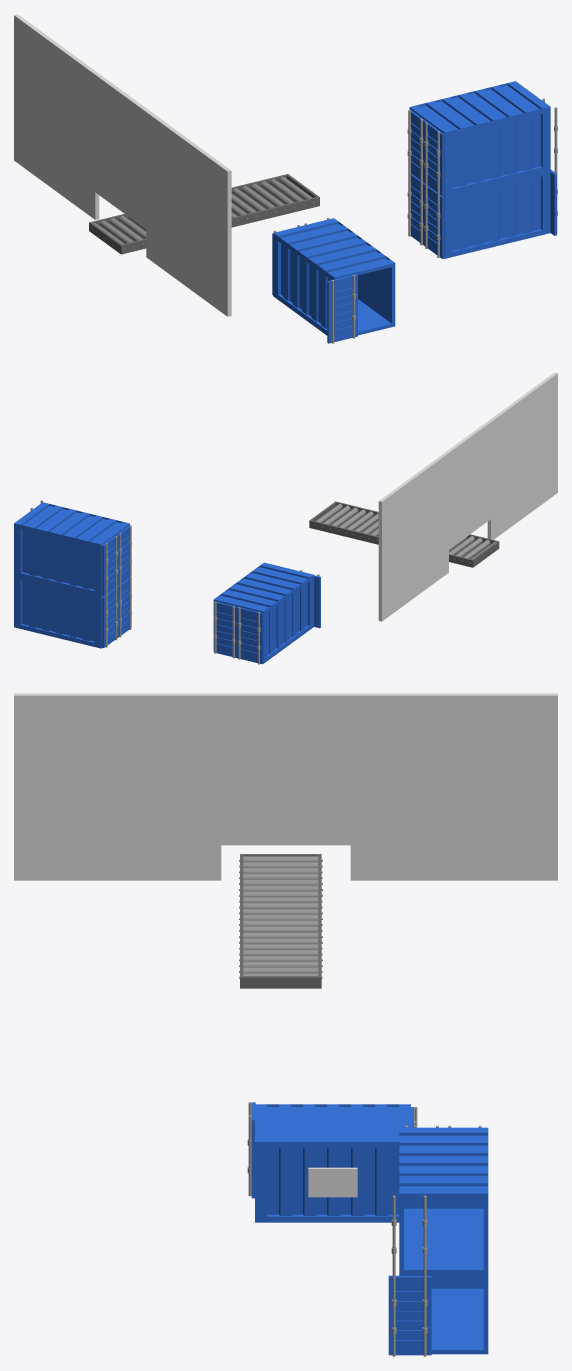
The model's file is level_1_scenery_fix.fbx.
3 views of the same model, one above another, from view 1: azimuth 30°, elevation 25°; view 2: azimuth 150°, elevation 25°; view 3: azimuth 270°, elevation 25° (orthographic). The views are drawn at different scales.
Visible parts, largest first — view 1: Plane, Cube.104, Cube.071, Cube.098, Cube.014; view 2: Plane, Cube.104, Cube.071, Cube.098, Cube.014; view 3: Plane, Cube.071, Cube.104, Cube.014, Cube.098.
Boxes of the visible parts, x1,y1,x2,y2 form: Plane: [14, 14, 231, 316]; Cube.104: [407, 81, 557, 195]; Cube.071: [272, 217, 395, 343]; Cube.098: [407, 169, 557, 258]; Cube.014: [89, 174, 319, 254]; Plane: [378, 372, 557, 621]; Cube.104: [14, 500, 131, 596]; Cube.071: [213, 562, 320, 664]; Cube.098: [14, 575, 131, 648]; Cube.014: [309, 501, 499, 567]; Plane: [14, 693, 557, 880]; Cube.071: [247, 1102, 417, 1222]; Cube.104: [391, 1125, 488, 1276]; Cube.014: [239, 854, 322, 988]; Cube.098: [388, 1273, 488, 1356].
Bounding box in the file's own units: 10742 × 5948 × 8000.
